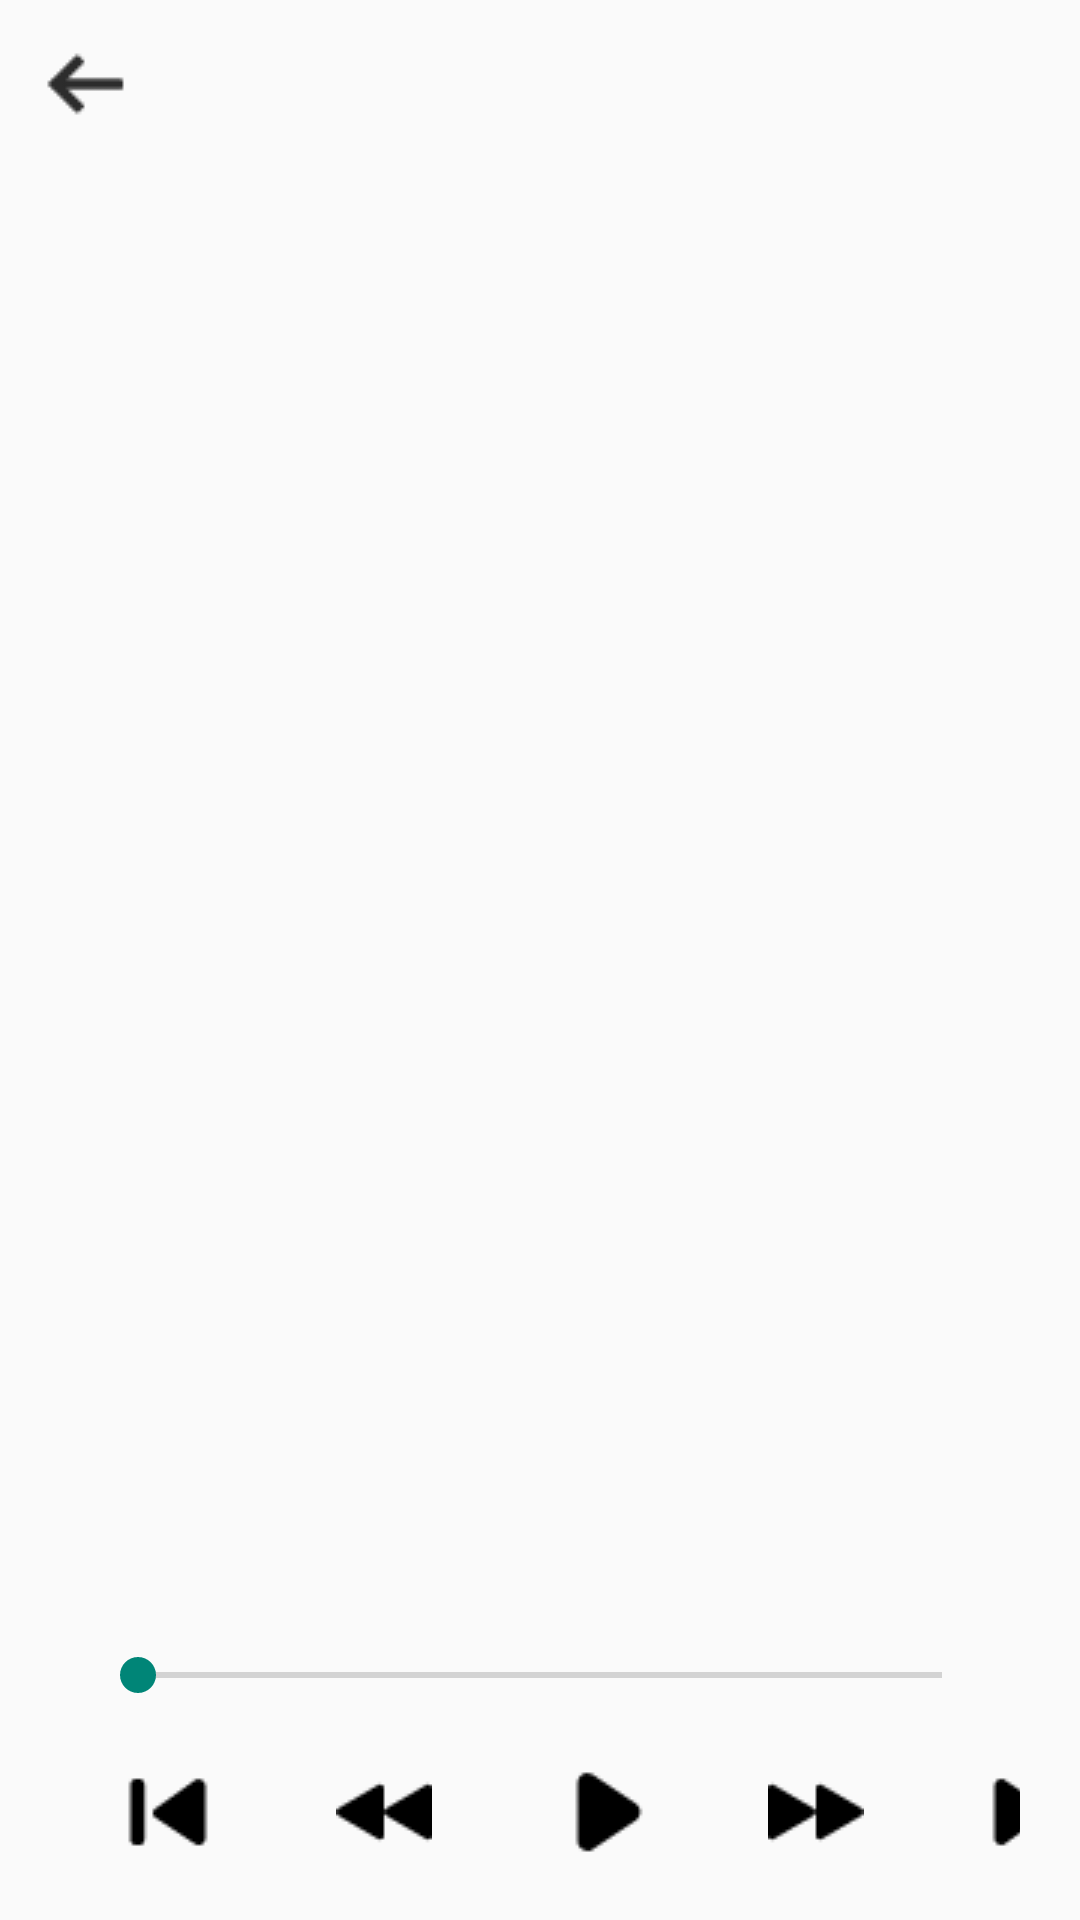

Icon click points for this 1080x1920 phone screenshot, format [x,y]:
before: [168,1812]
forward: [816,1812]
play: [609,1812]
